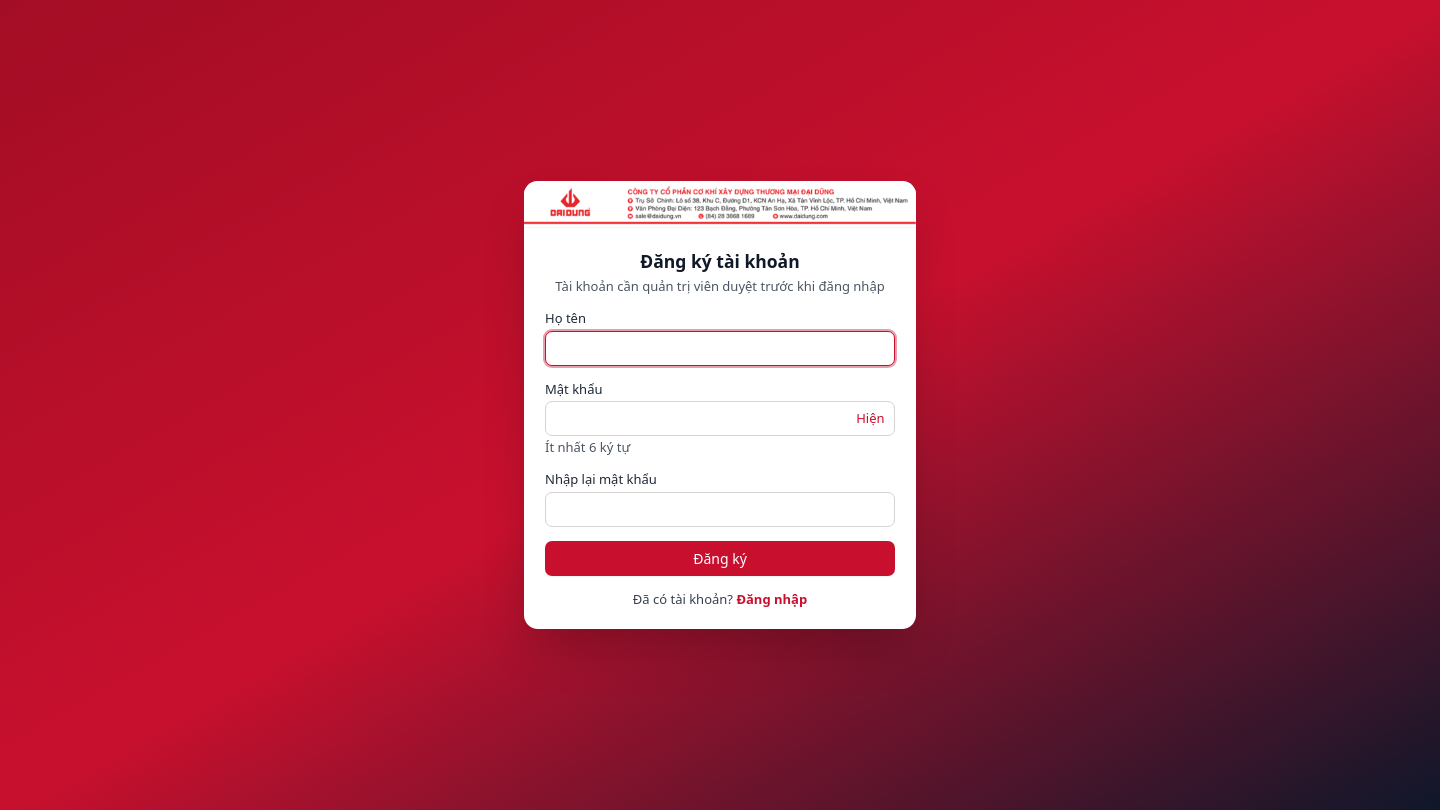
Test case: RegisterPage (D-015) › mật khẩu ngắn / không khớp → báo lỗi cạnh ô, không gọi máy chủ
Step 1. Type "Lê Thái Bão" into the field with test id "register-fullname" → [720, 348], box [545,331,895,366]
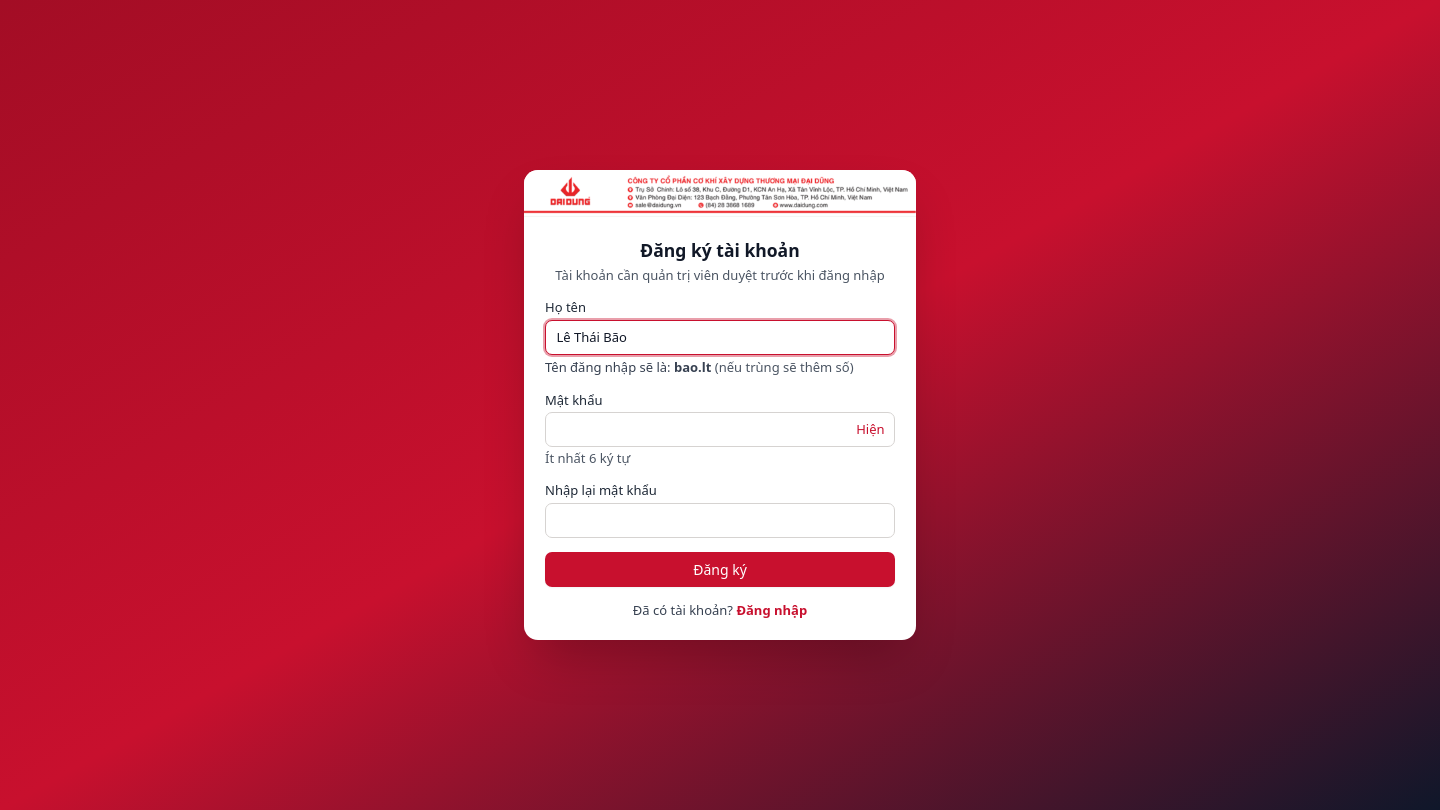
Step 2. Type "ngan" into the password field with test id "register-password" → [720, 430], box [545,412,895,447]
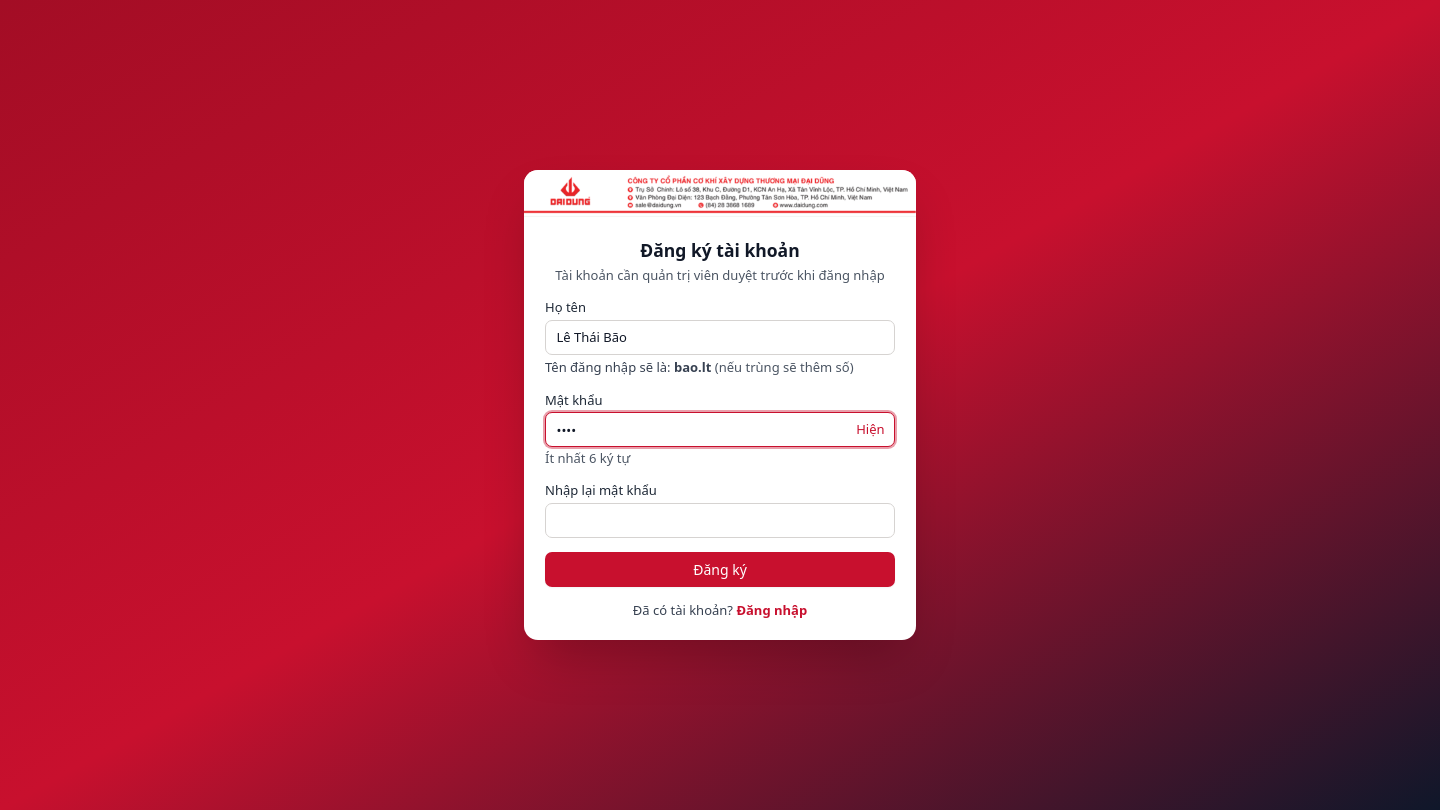
Step 3. Type "khac" into the password field with test id "register-confirm" → [720, 520], box [545,503,895,538]
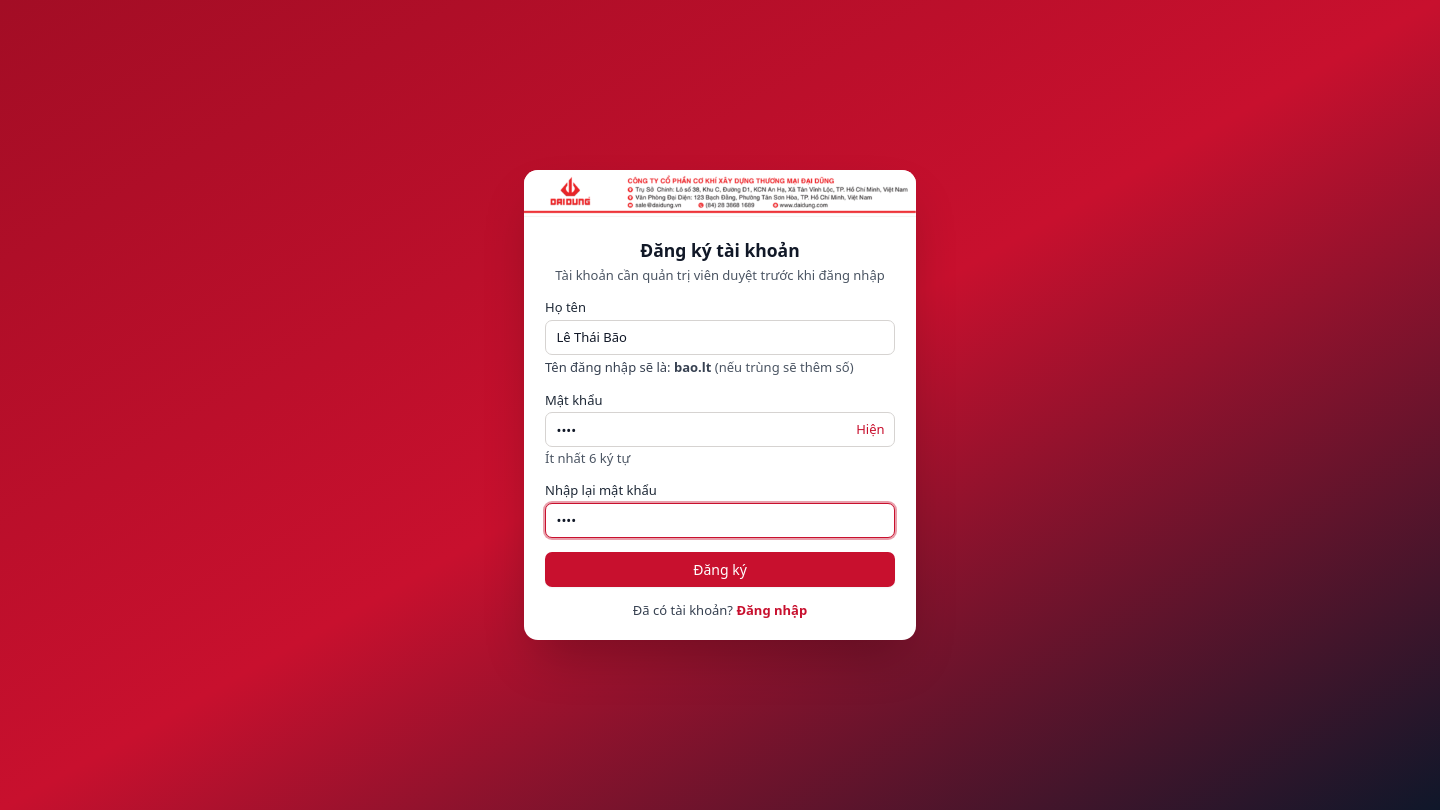
Step 4. Click the button with test id "register-submit" → [720, 569], box [545,552,895,587]
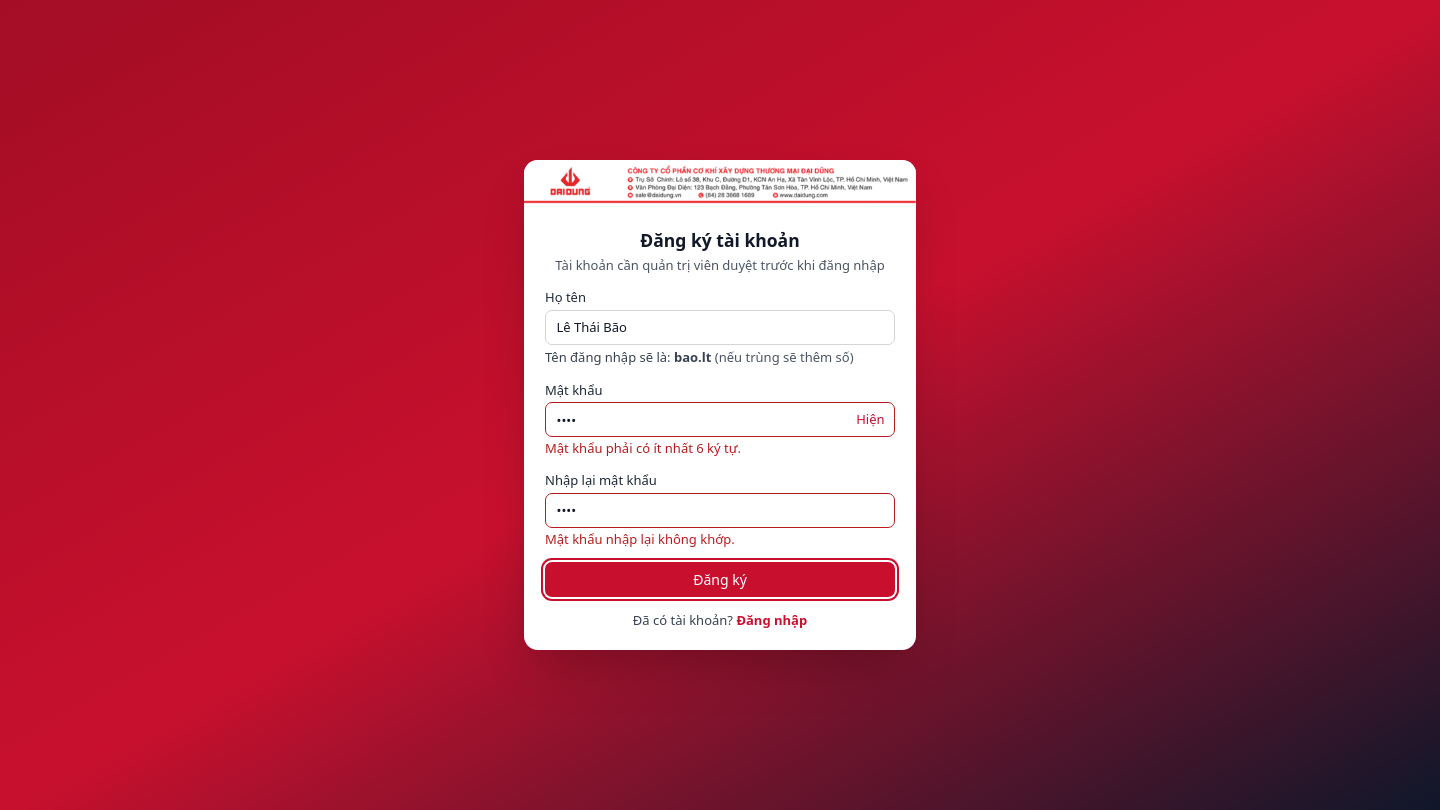
expect the text "Mật khẩu phải có ít nhất 6 ký tự." is shown: met, box [545,439,741,457]
expect the text "Mật khẩu nhập lại không khớp." is shown: met, box [545,530,735,548]
